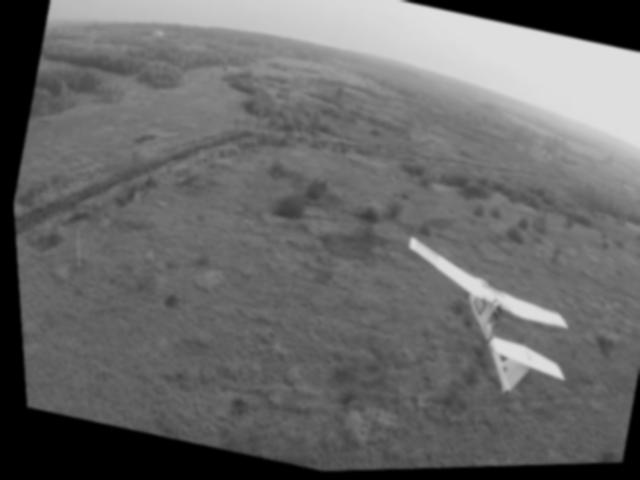hedef: (370, 229, 588, 424)
